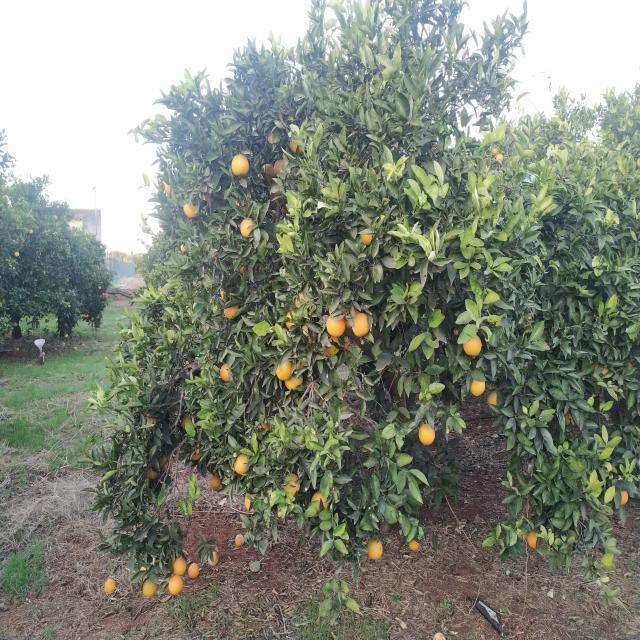Jeruk Belum Matang: (283, 474, 300, 494)
Jeruk Sudah Matang: (326, 314, 346, 338), (463, 333, 482, 357), (351, 312, 369, 336), (231, 154, 249, 176), (312, 492, 328, 514), (284, 373, 304, 390), (418, 424, 434, 445), (276, 360, 292, 380), (470, 378, 486, 397), (168, 576, 184, 595), (367, 539, 382, 559), (234, 454, 249, 474), (240, 216, 254, 236), (142, 580, 158, 597), (173, 558, 187, 576), (182, 204, 198, 218), (160, 454, 173, 471), (527, 531, 539, 549), (274, 159, 286, 176), (289, 140, 303, 154), (224, 304, 238, 318), (188, 563, 200, 579), (361, 230, 374, 244), (220, 364, 230, 382), (262, 164, 274, 178), (209, 476, 221, 489), (408, 538, 419, 552), (488, 391, 498, 406), (190, 448, 202, 460), (146, 468, 156, 478), (165, 183, 171, 194)
